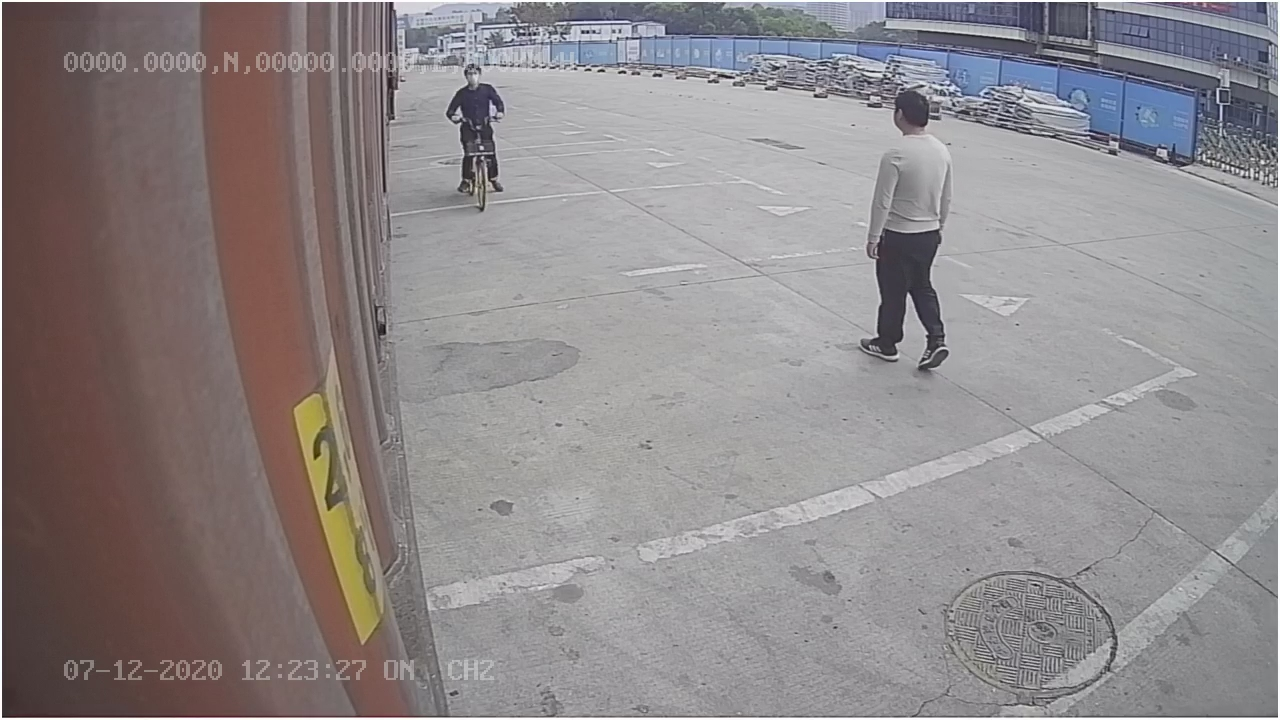person: (852, 81, 959, 374)
